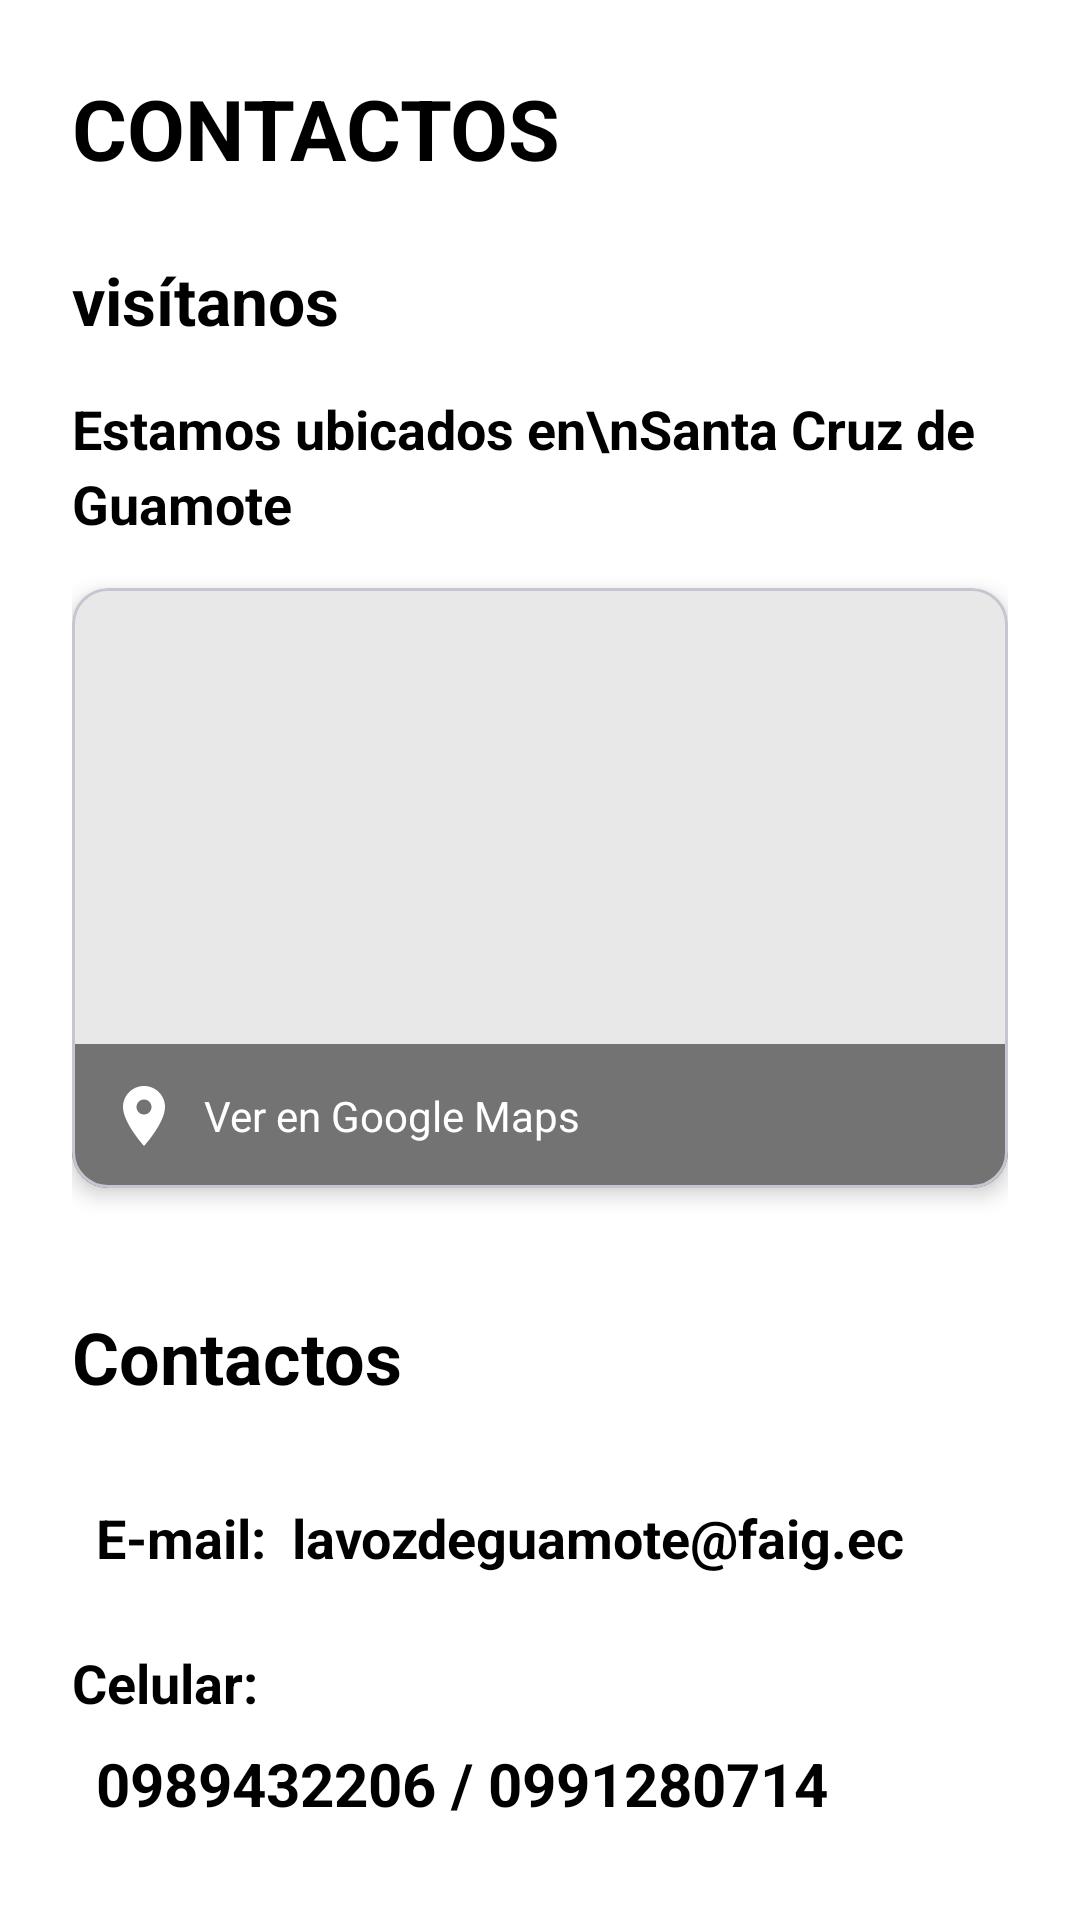

Screen size 1080 x 1920. Icon name, then its box in pixels as box=[x1, y1, x2, y2]:
location: box=[123, 1086, 165, 1146]
